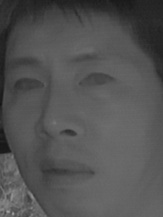eye: (74, 70, 116, 93), (11, 75, 46, 95)
mouth: (39, 152, 96, 186)
